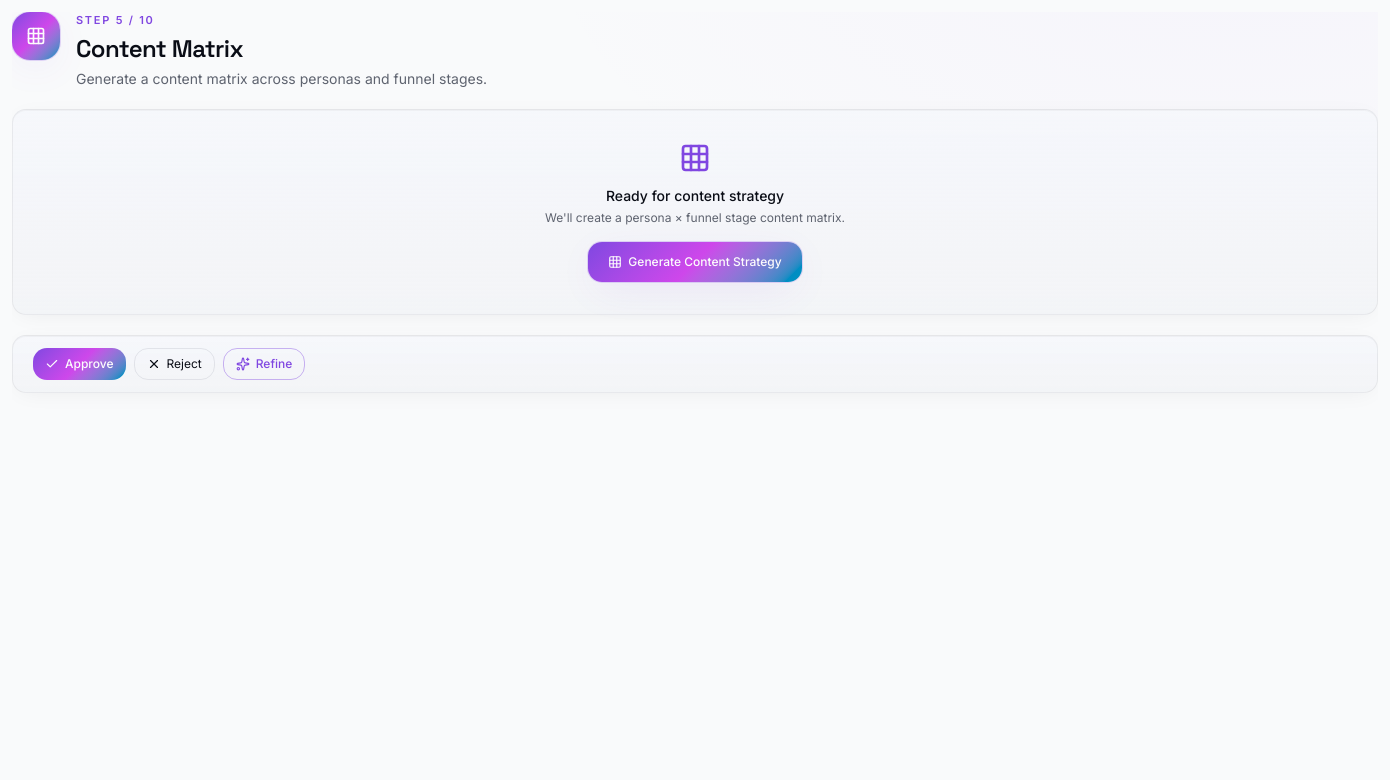
Test case: Step5ContentMatrix — header item count (QA round 3) › counts rendered content items from the run payload
The image size is (1390, 780).
Click the button "Generate Content Strategy": (695, 262) [588, 242, 802, 282]
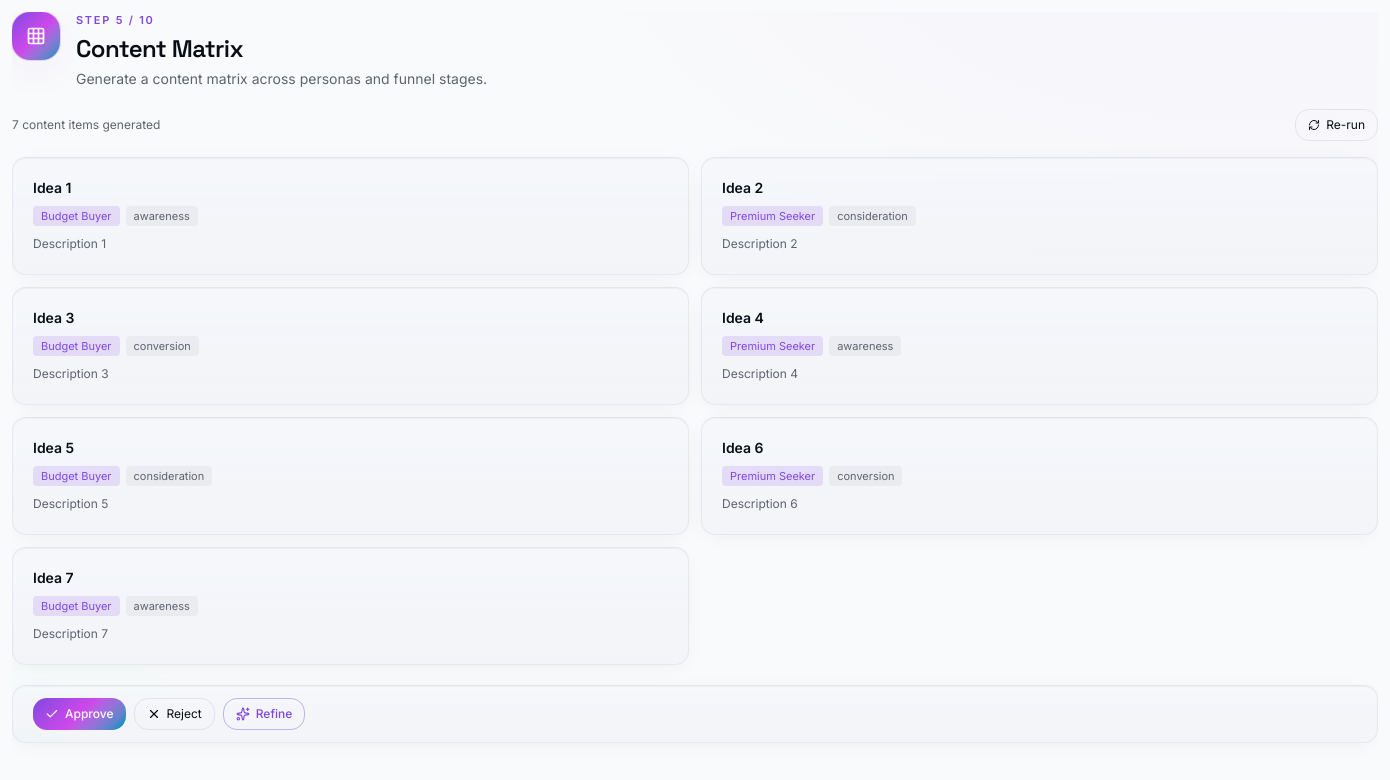
Now the text with test id "content-items-count" reads "7 content items generated", box [12, 116, 160, 132]
